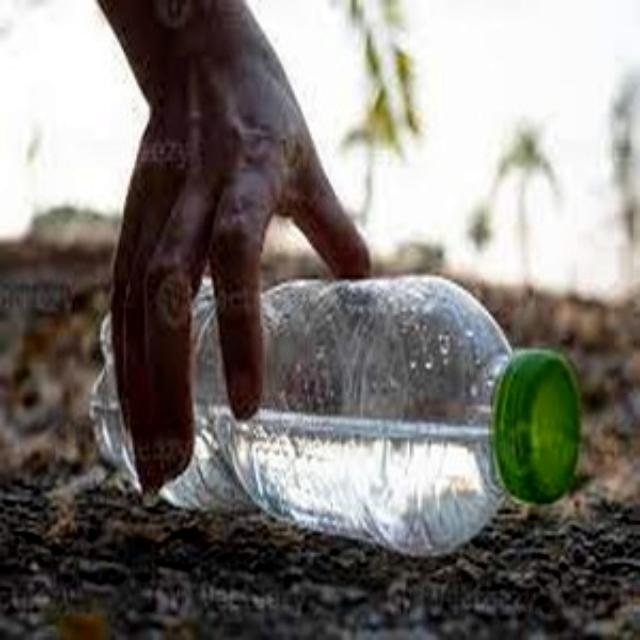Plastic: (92, 274, 578, 552)
